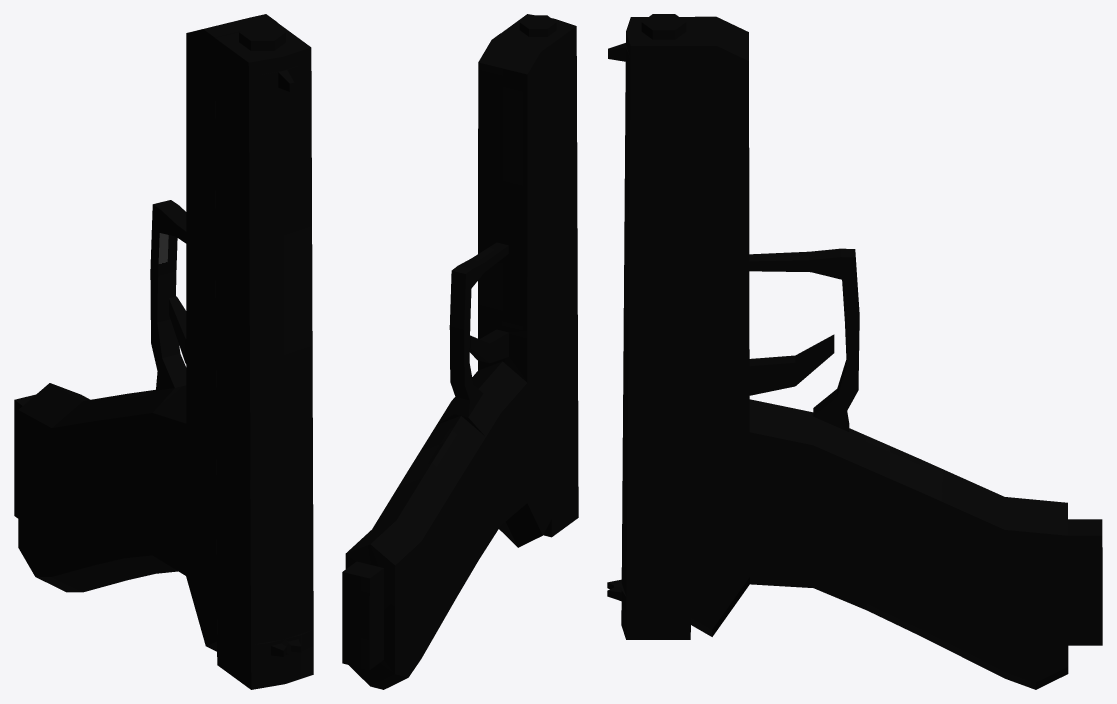
The model's file is Glock17.fbx.
The picture shows the model from 3 angles, left to right: view 1: azimuth 30°, elevation 25°; view 2: azimuth 150°, elevation 25°; view 3: azimuth 270°, elevation 25°; orthographic projection. The views are drawn at different scales.
Parts seen in each view (by area): view 1: asset_Glock17.001; view 2: asset_Glock17.001; view 3: asset_Glock17.001.
Part boxes in pixels (<box>): asset_Glock17.001: <box>14,14,313,689</box>; asset_Glock17.001: <box>342,14,578,689</box>; asset_Glock17.001: <box>607,14,1102,689</box>.
Bounding box in the file's own units: 0.0107 × 0.1152 × 0.0774.
